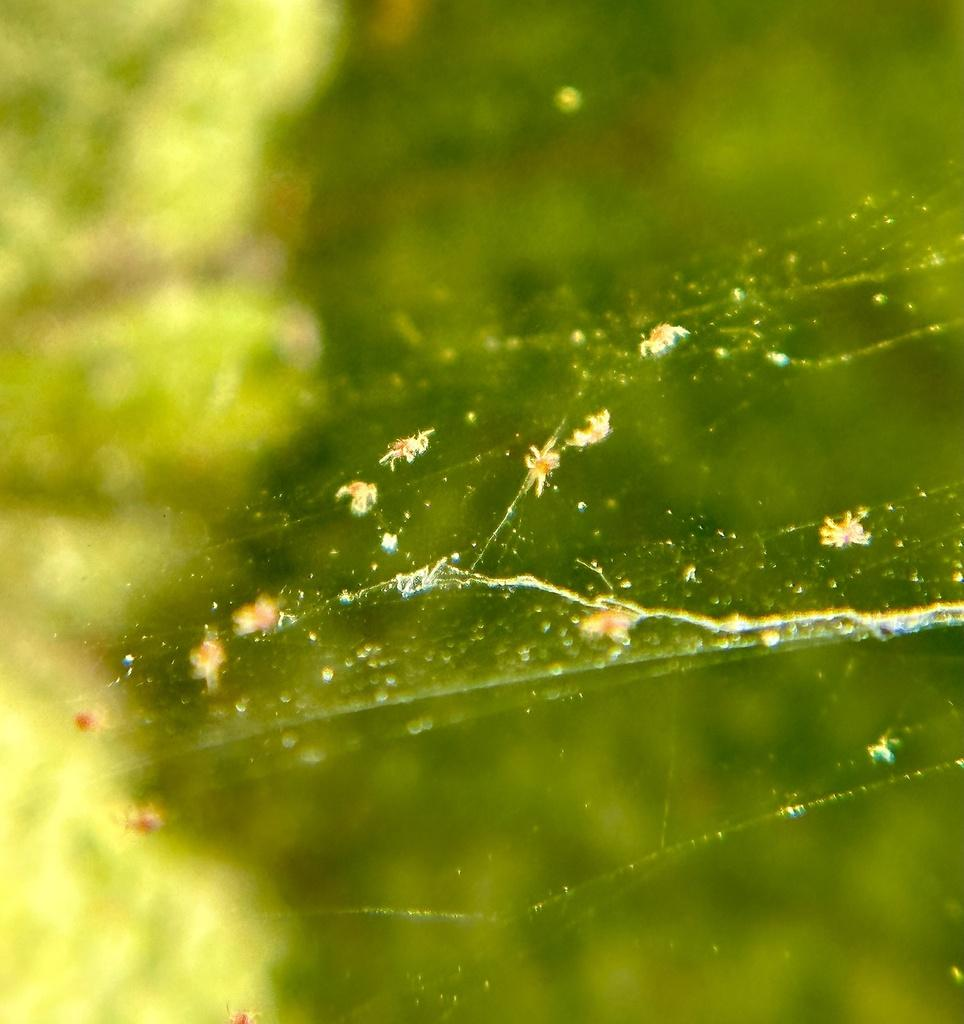tiny_pests: (801, 495, 890, 560), (631, 302, 699, 371), (373, 416, 440, 479), (557, 393, 618, 453), (517, 424, 565, 498), (573, 602, 634, 650)
